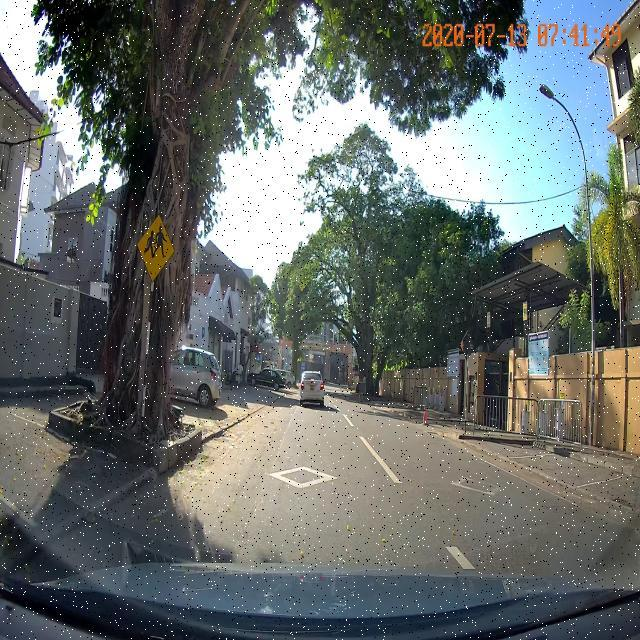diamond: (151, 457, 428, 507)
